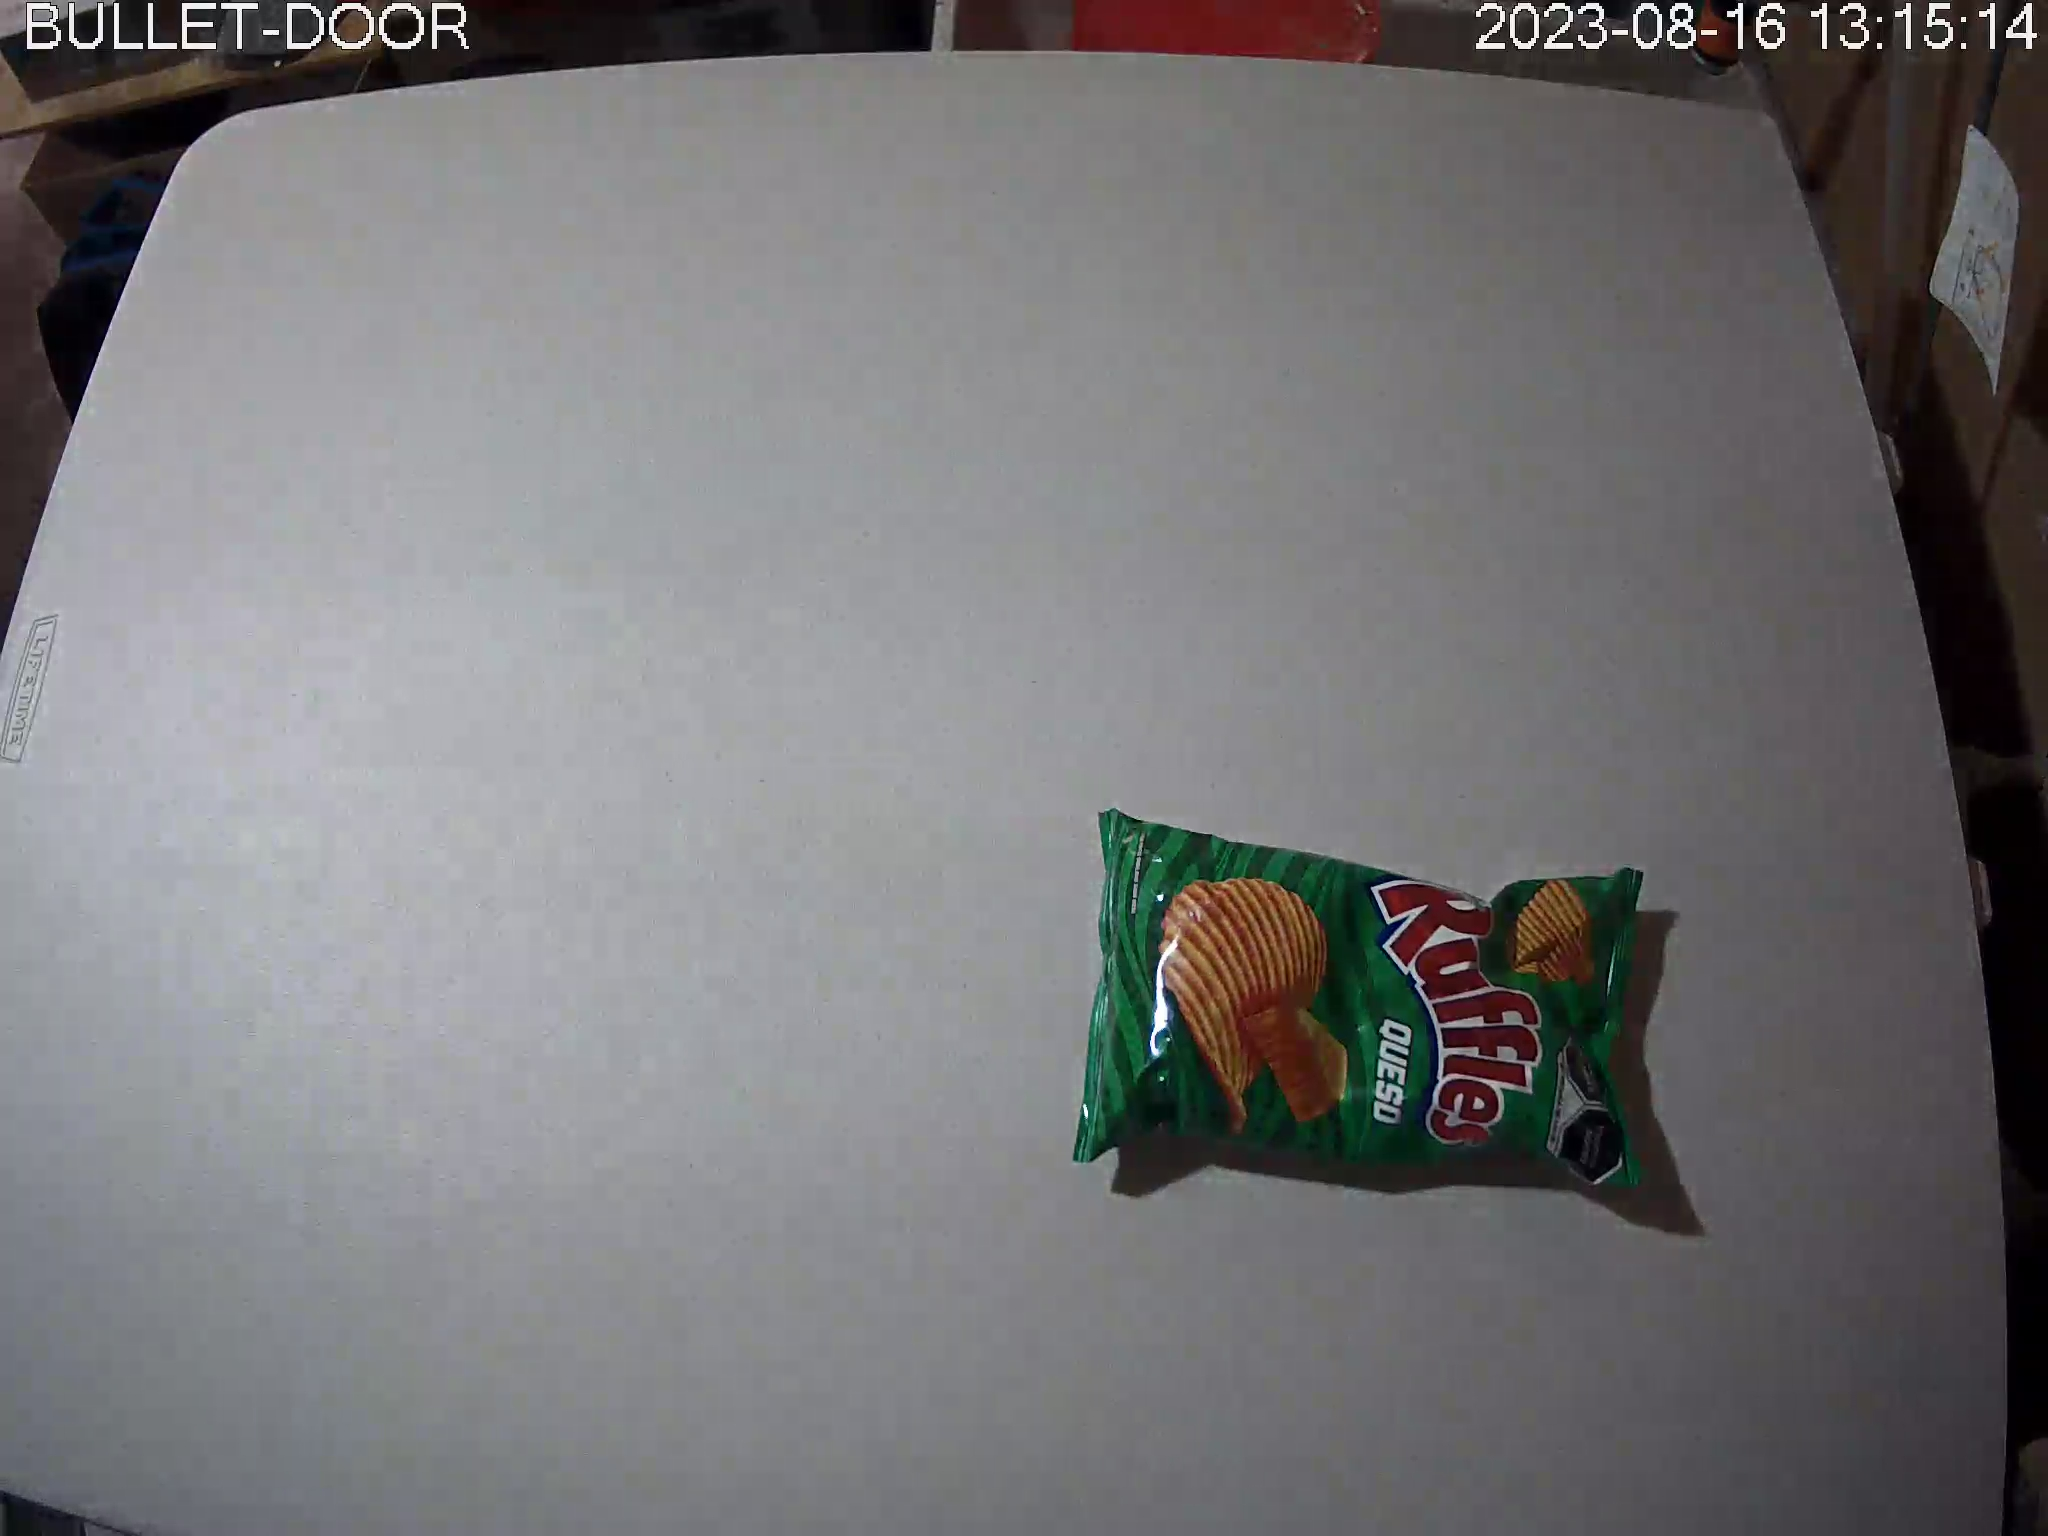RufflesQ_48_F: (1072, 807, 1655, 1196)
